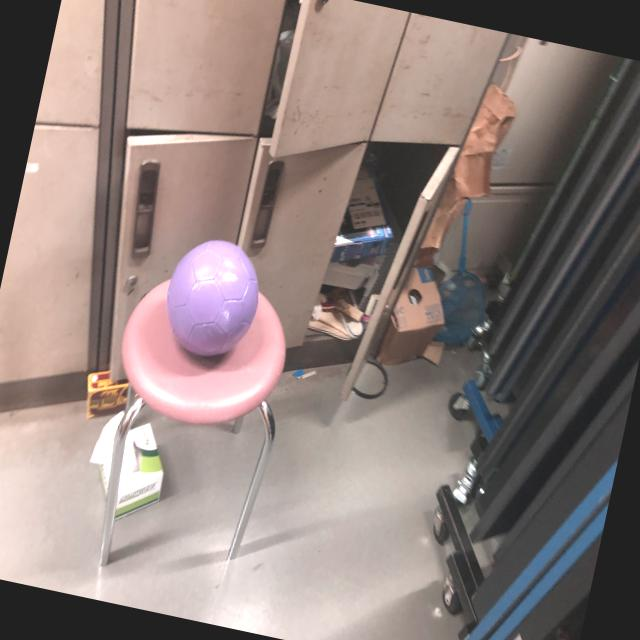purple_ball: (154, 230, 268, 364)
